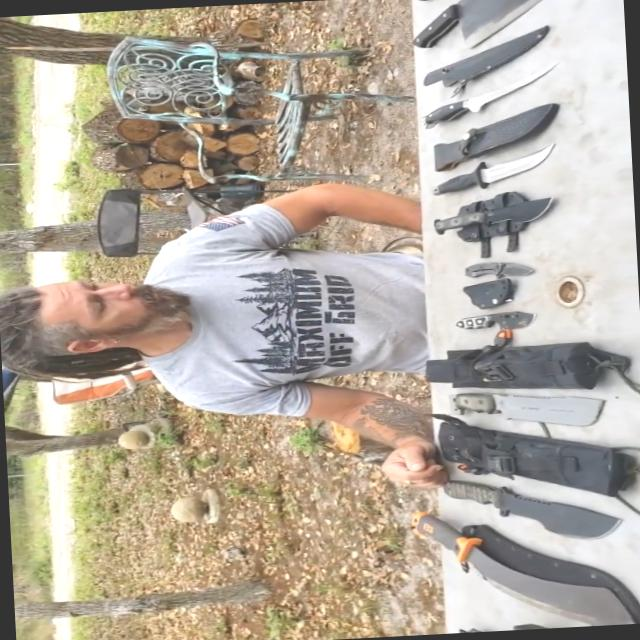knife: (392, 505, 638, 635), (412, 456, 629, 566), (407, 59, 563, 139), (423, 377, 624, 434), (412, 136, 570, 202), (407, 187, 568, 250), (402, 0, 548, 62), (435, 299, 545, 342), (458, 254, 542, 284)
